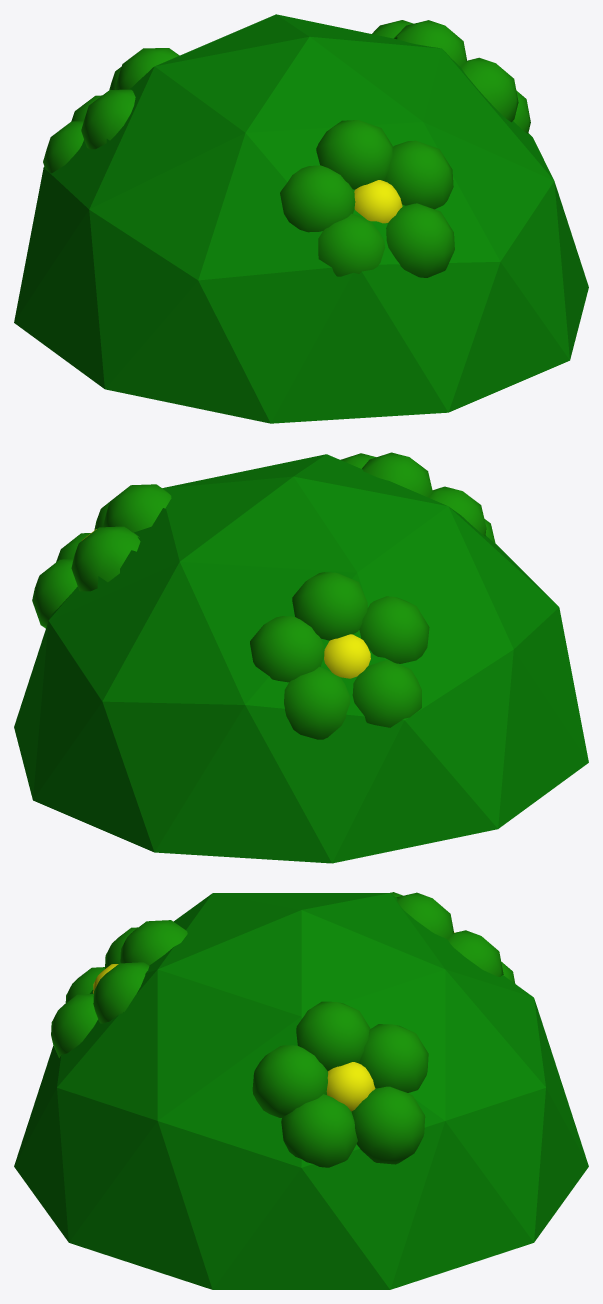
Rendered from papatya çalısı.fbx.
3 views of the same model, one above another, from view 1: azimuth 30°, elevation 25°; view 2: azimuth 150°, elevation 25°; view 3: azimuth 270°, elevation 25° (orthographic). The views are drawn at different scales.
Parts seen in each view (by area): view 1: Küp.003; view 2: Küp.003; view 3: Küp.003.
Part boxes in pixels (box(x1,y1,x2,y2)): Küp.003: box(14, 14, 588, 423); Küp.003: box(14, 452, 588, 863); Küp.003: box(14, 892, 588, 1289).
Size of the model in its own units: 400 by 217 by 421.
